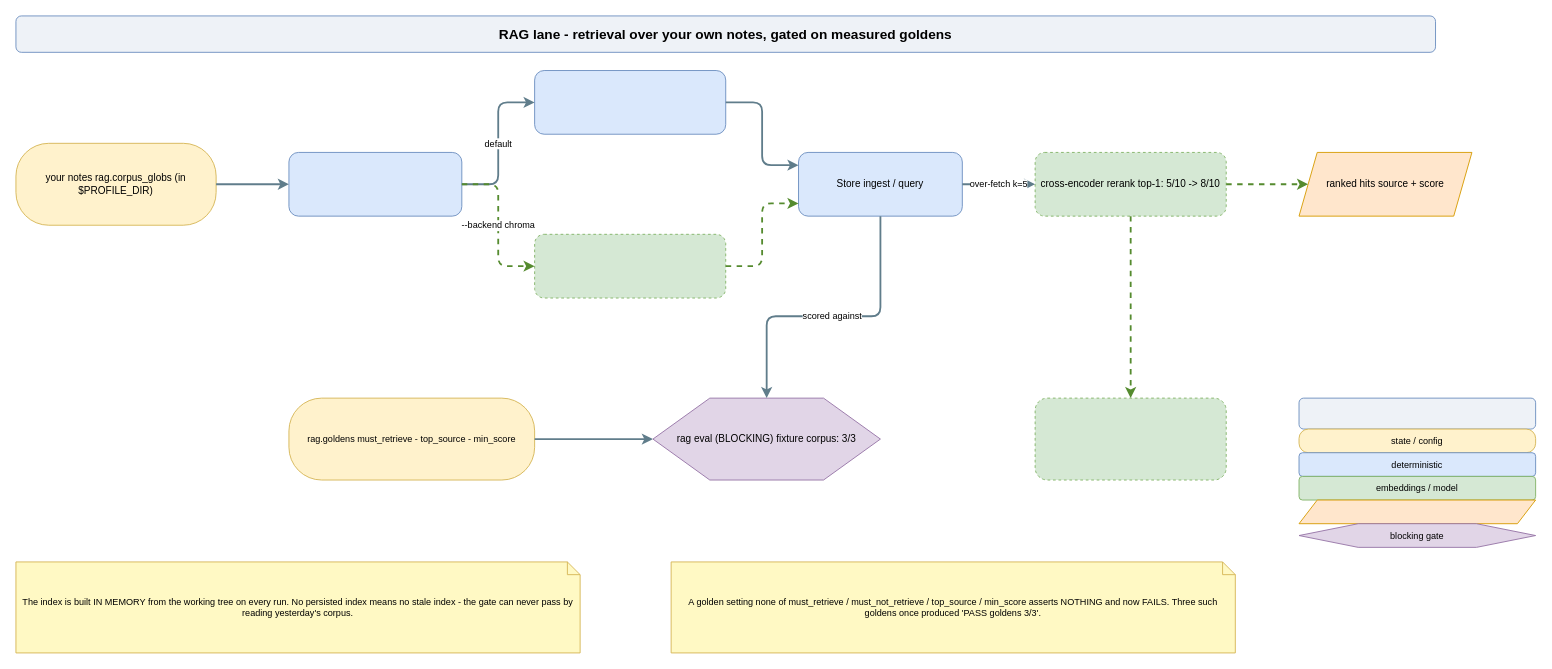
Some shapes in this 1552 by 669 pixel diagram are drawn without their labels. Each missing label, with the box of its shape:
ChromaBackend embeddings - persistent: (534, 233, 726, 298)
chunk heading-aware split: (288, 152, 462, 216)
in-flight: (1298, 499, 1536, 524)
InMemoryBackend lexical - zero deps: (534, 70, 726, 134)
Legend: (1298, 397, 1536, 429)
semantic skill discovery 'which skill does X?': (1034, 397, 1226, 480)
